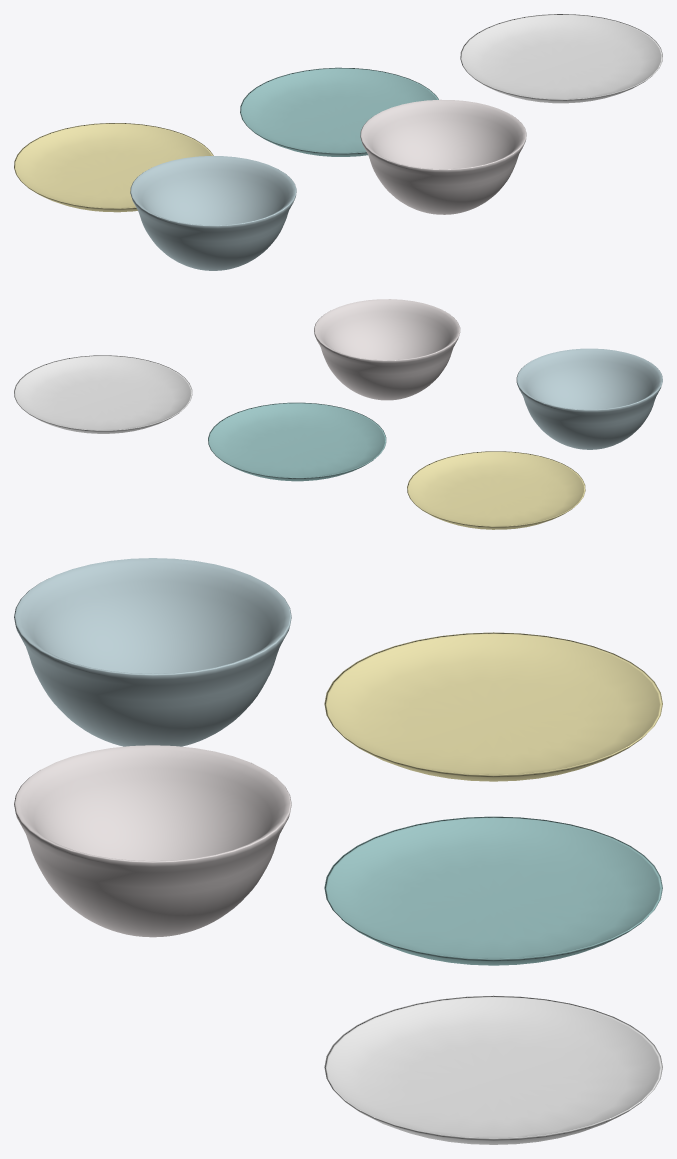
The model's file is PlateAndBowls.fbx.
The picture shows the model from 3 angles, top to bottom: view 1: azimuth 30°, elevation 25°; view 2: azimuth 150°, elevation 25°; view 3: azimuth 270°, elevation 25°; orthographic projection. The views are drawn at different scales.
Visible parts, largest first — view 1: pSphere3, pSphere4, pCylinder2, pCylinder1, pCylinder3; view 2: pSphere3, pSphere4, pCylinder1, pCylinder2, pCylinder3; view 3: pSphere3, pSphere4, pCylinder1, pCylinder3, pCylinder2.
Part boxes in pixels (<box>): pSphere3: <box>360,99,526,214</box>; pSphere4: <box>130,156,296,270</box>; pCylinder2: <box>460,14,662,103</box>; pCylinder1: <box>240,67,438,156</box>; pCylinder3: <box>14,123,213,212</box>; pSphere3: <box>314,299,460,400</box>; pSphere4: <box>516,348,662,449</box>; pCylinder1: <box>208,402,386,481</box>; pCylinder2: <box>14,355,192,433</box>; pCylinder3: <box>407,451,585,529</box>; pSphere3: <box>14,745,291,937</box>; pSphere4: <box>14,558,291,746</box>; pCylinder1: <box>324,816,662,965</box>; pCylinder3: <box>324,632,662,781</box>; pCylinder2: <box>324,995,662,1144</box>.
Size of the model in its own units: 34.9 by 3.94 by 18.9.
